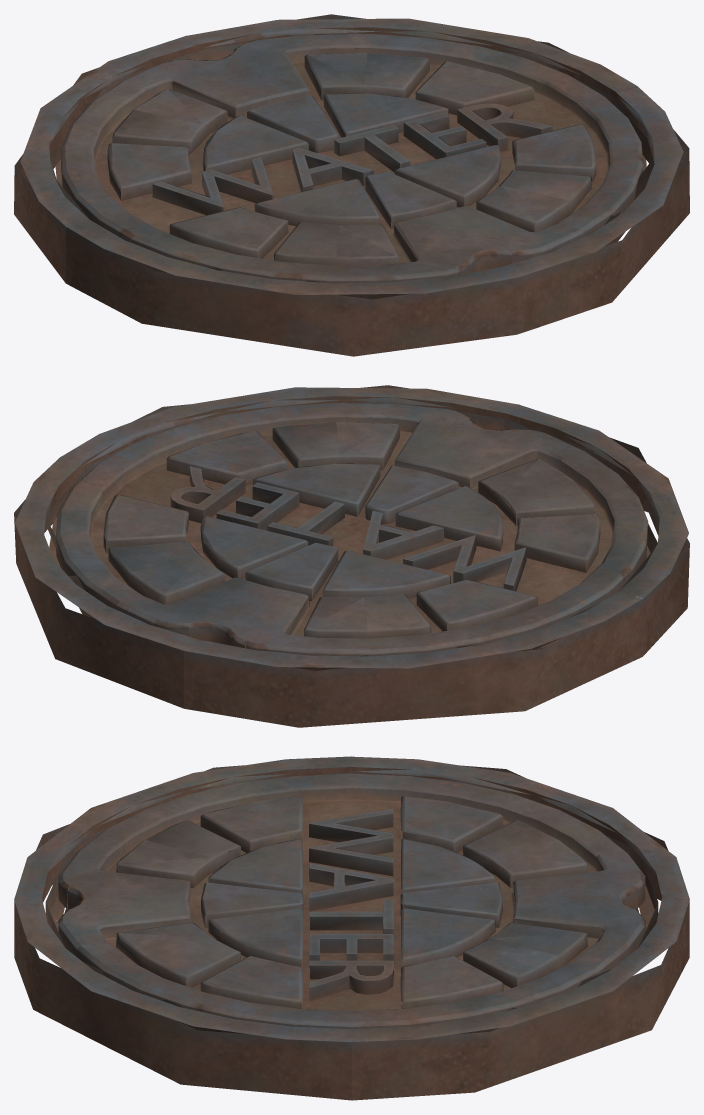
The model's file is water_manhole_cover.glb.
3 views of the same model, one above another, from view 1: azimuth 30°, elevation 25°; view 2: azimuth 150°, elevation 25°; view 3: azimuth 270°, elevation 25° (orthographic). The views are drawn at different scales.
Visible parts, largest first — view 1: water_manhole_cover; view 2: water_manhole_cover; view 3: water_manhole_cover.
Boxes of the visible parts, x1,y1,x2,y2 form: water_manhole_cover: [14, 14, 689, 356]; water_manhole_cover: [14, 385, 689, 727]; water_manhole_cover: [14, 756, 689, 1100].
Bounding box in the file's own units: 2.47 × 0.2433 × 2.47.
Materials: 1 (1 with a texture image).
